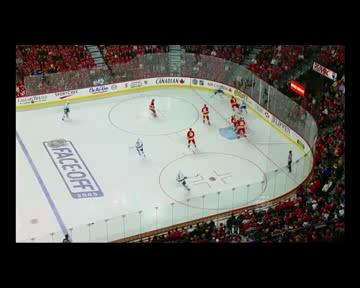normal: (225, 112, 252, 141), (182, 124, 201, 151), (144, 93, 160, 120)
